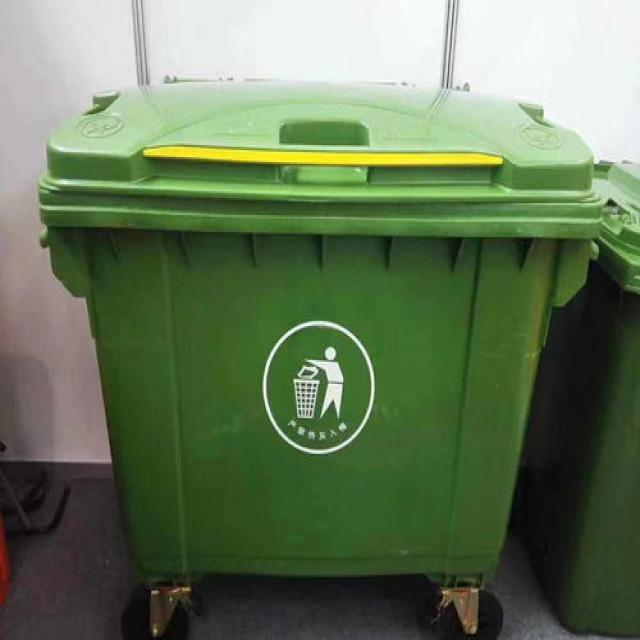garbage_bin: (37, 77, 600, 577), (512, 159, 639, 638)
